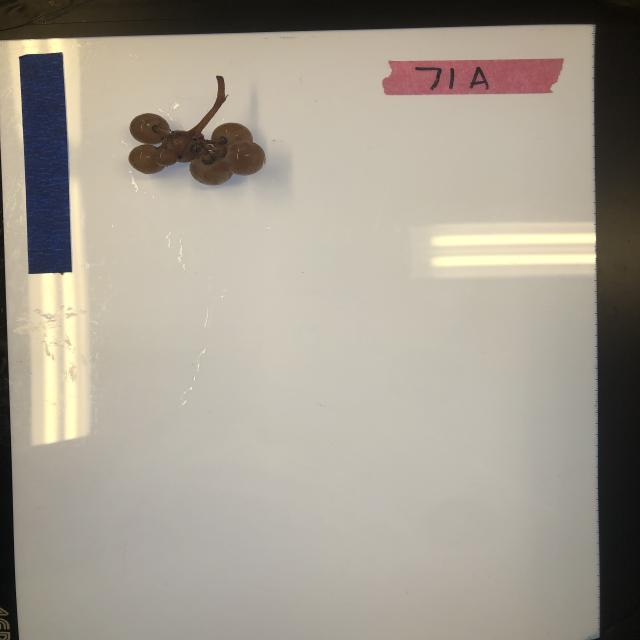grape_cluster: (128, 74, 268, 188)
index: (383, 57, 563, 94)
measure_label: (18, 51, 74, 275)
